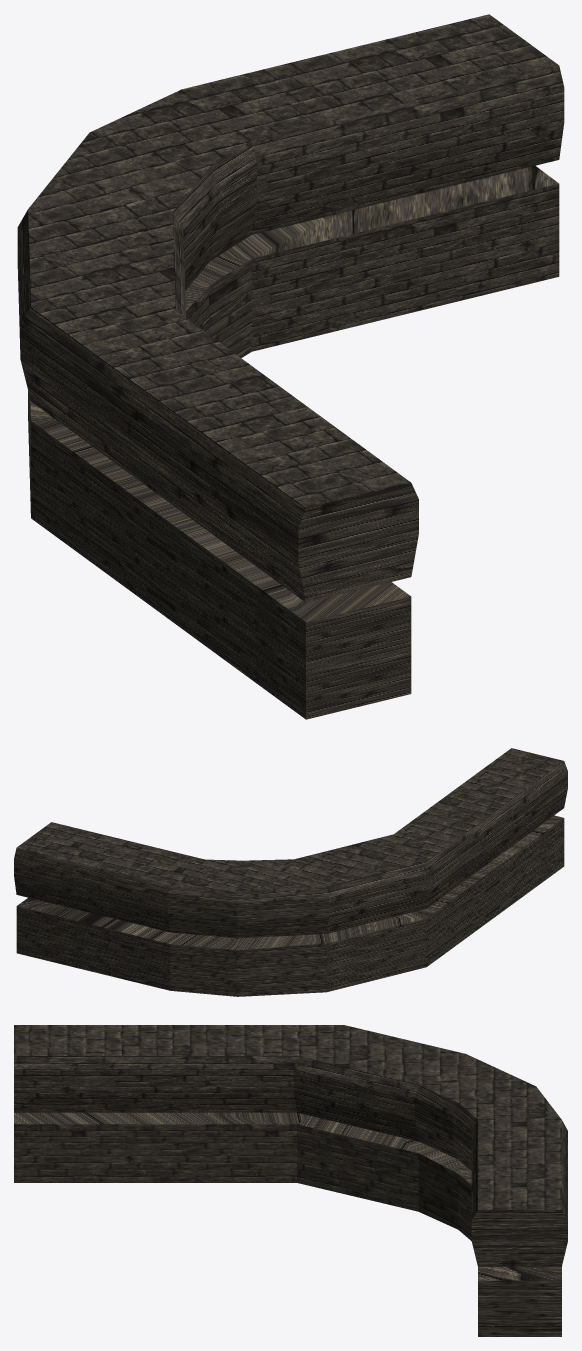
Rendered from Rampant_CurvedWall.fbx.
3 renders of one model, top to bottom at view 1: azimuth 30°, elevation 25°; view 2: azimuth 150°, elevation 25°; view 3: azimuth 270°, elevation 25°, orthographic. The views are drawn at different scales.
Parts seen in each view (by area): view 1: Curved_Top, WallPart1; view 2: Curved_Top, WallPart1; view 3: Curved_Top, WallPart1.
Boxes of the visible parts, box(x1,y1,x2,y2) form: Curved_Top: box(17, 14, 564, 602); WallPart1: box(28, 165, 559, 719); Curved_Top: box(14, 748, 567, 938); WallPart1: box(16, 815, 564, 996); Curved_Top: box(14, 1025, 567, 1266); WallPart1: box(14, 1112, 561, 1336).
Bounding box in the file's own units: 46.58 × 14.84 × 57.5.
Materials: 1 (1 with a texture image).
